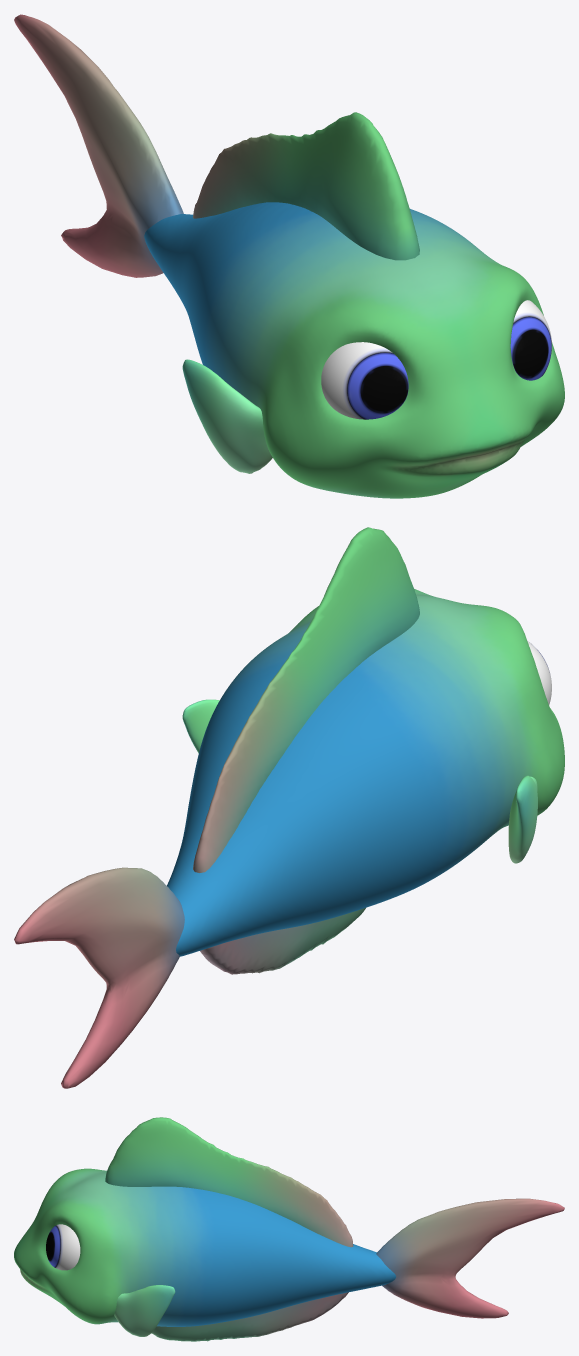
The model's file is Fishes_Little_general_2_Base.glb.
3 renders of one model, top to bottom at view 1: azimuth 30°, elevation 25°; view 2: azimuth 150°, elevation 25°; view 3: azimuth 270°, elevation 25°, orthographic. The views are drawn at different scales.
Visible parts, largest first — view 1: Sphere.025, Sphere.028, Sphere.030, Little fish 02 Eyes_Base, Sphere.027; view 2: Sphere.025, Sphere.028, Sphere.030, Sphere.029, Sphere.027; view 3: Sphere.025, Sphere.028, Sphere.030, Sphere.029, Sphere.027, Little fish 02 Eyes_Base.
Part boxes in pixels (<box>): Sphere.025: <box>144,202,564,498</box>; Sphere.028: <box>193,112,419,260</box>; Sphere.030: <box>14,14,183,277</box>; Little fish 02 Eyes_Base: <box>321,300,551,419</box>; Sphere.027: <box>182,359,272,473</box>; Sphere.025: <box>167,589,564,956</box>; Sphere.028: <box>193,527,419,872</box>; Sphere.030: <box>14,867,184,1088</box>; Sphere.029: <box>200,908,365,974</box>; Sphere.027: <box>182,699,537,863</box>; Sphere.025: <box>14,1168,395,1326</box>; Sphere.028: <box>105,1117,353,1247</box>; Sphere.030: <box>376,1198,564,1318</box>; Sphere.029: <box>151,1292,348,1341</box>; Sphere.027: <box>114,1285,175,1336</box>; Little fish 02 Eyes_Base: <box>46,1224,80,1270</box>.
Size of the model in its own units: 0.353 by 0.382 by 0.8545.
